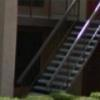stairs: (26, 17, 100, 96)
